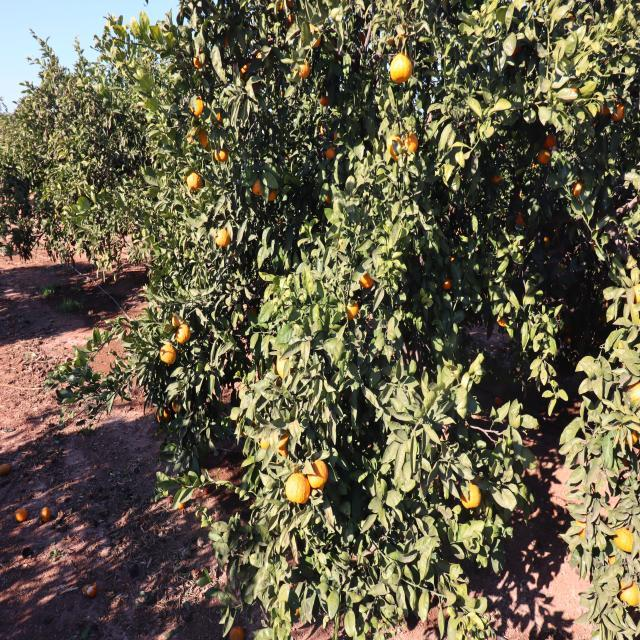Jeruk Sudah Matang: (280, 468, 312, 508), (616, 566, 640, 608), (305, 456, 332, 492), (382, 130, 406, 168), (388, 49, 414, 84), (612, 522, 640, 554), (612, 424, 640, 454), (290, 50, 314, 84), (459, 478, 483, 511), (617, 380, 640, 412), (277, 427, 299, 459), (183, 168, 208, 195), (254, 422, 274, 452), (342, 294, 362, 323), (572, 176, 594, 202), (236, 57, 255, 87), (190, 46, 210, 74), (158, 338, 176, 368), (172, 320, 193, 345), (188, 92, 208, 118), (402, 129, 422, 155), (213, 140, 231, 168), (604, 546, 622, 573), (213, 222, 229, 252), (360, 268, 380, 292), (575, 512, 591, 542), (184, 125, 204, 148), (488, 164, 506, 189), (630, 270, 640, 315), (598, 89, 612, 121), (249, 173, 264, 199), (611, 102, 630, 122), (264, 184, 282, 204), (535, 147, 554, 165), (326, 125, 342, 146), (197, 126, 210, 150), (546, 128, 560, 150), (322, 144, 338, 160), (317, 92, 332, 108), (254, 41, 266, 60), (171, 310, 182, 329), (515, 211, 526, 227)
